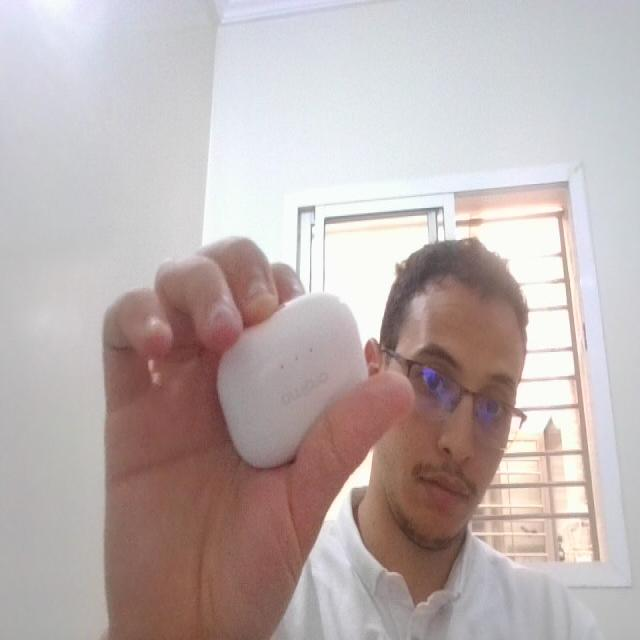airpods: (214, 287, 372, 472)
